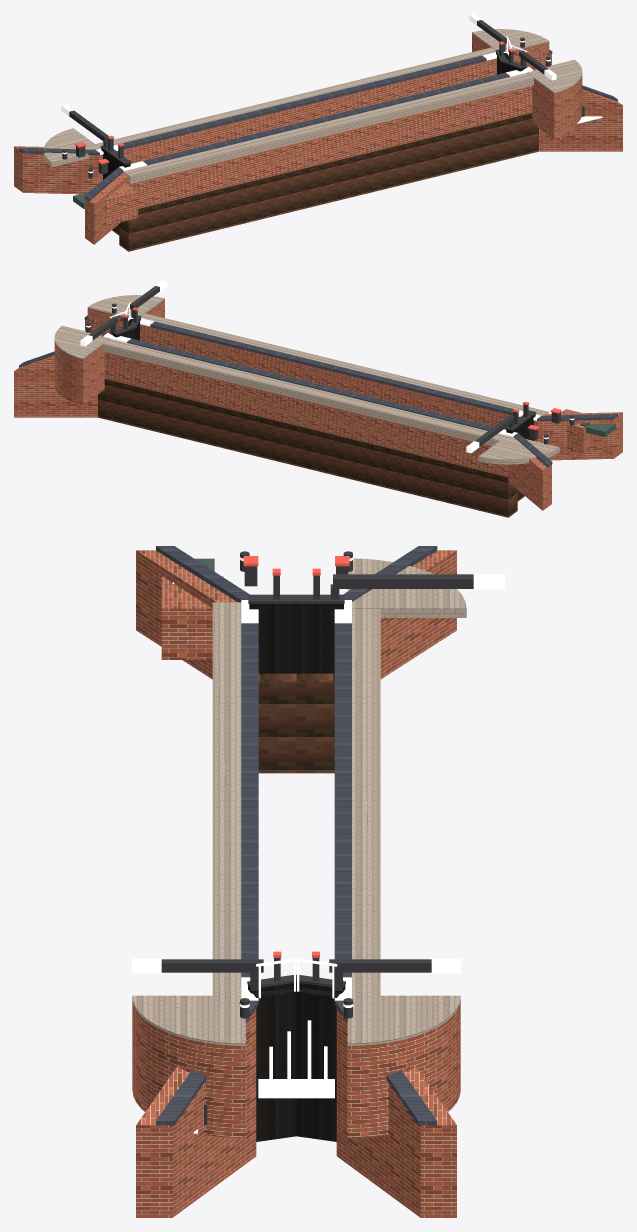
File: lock-47.glb
The picture shows the model from 3 angles, top to bottom: view 1: azimuth 30°, elevation 25°; view 2: azimuth 150°, elevation 25°; view 3: azimuth 270°, elevation 25°; orthographic projection. The views are drawn at different scales.
Visible parts, largest first — view 1: Chamber, ChamberWet, Edge, Coping.001, TopGateCap, Coping, TopGate; view 2: Chamber, ChamberWet, Edge, Coping.001, TopGateCap, Coping, TopGate; view 3: Chamber, Edge, Coping.001, TopGate, TopGateCap, ChamberWet, Coping, Leak.
Part boxes in pixels (<box>): Chamber: <box>14,33,622,244</box>; ChamberWet: <box>112,113,538,251</box>; Edge: <box>44,29,582,183</box>; Coping.001: <box>19,49,617,201</box>; TopGateCap: <box>62,20,584,178</box>; Coping: <box>61,14,556,173</box>; TopGate: <box>101,52,527,179</box>; Chamber: <box>14,299,622,510</box>; ChamberWet: <box>98,379,524,517</box>; Edge: <box>54,295,559,464</box>; Coping.001: <box>19,315,617,467</box>; TopGateCap: <box>86,286,574,446</box>; Coping: <box>80,280,574,453</box>; TopGate: <box>109,318,535,440</box>; Chamber: <box>132,550,460,1217</box>; Edge: <box>132,558,466,1045</box>; Coping.001: <box>156,546,437,1125</box>; TopGate: <box>248,604,345,1141</box>; TopGateCap: <box>161,551,473,1125</box>; ChamberWet: <box>258,673,334,773</box>; Coping: <box>131,556,505,1007</box>; Leak: <box>172,582,334,1133</box>.
Bounding box in the file's own units: 33.58 × 5.79 × 10.24.
Materials: 11 (8 with a texture image).
